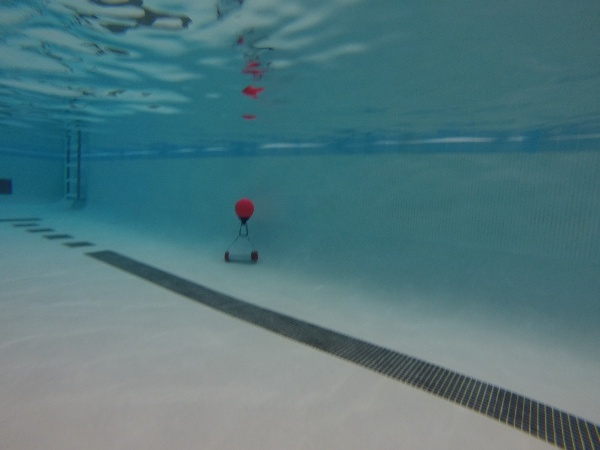buoy_red: (231, 196, 255, 225)
